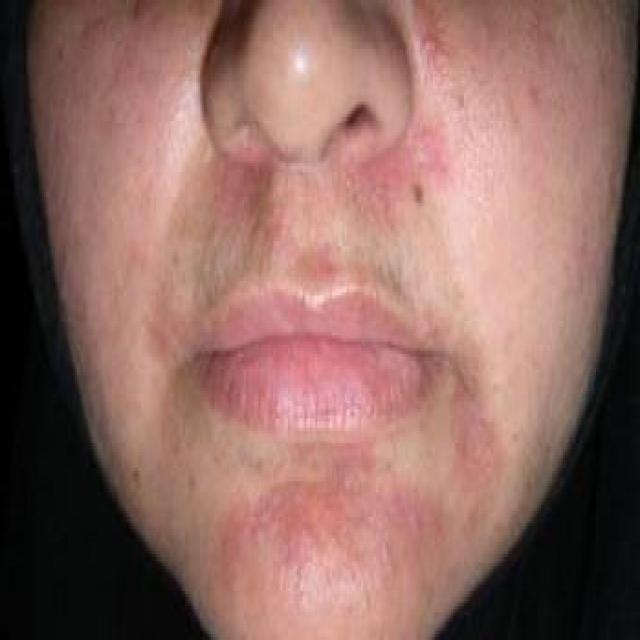Pimples: (410, 182, 426, 206), (129, 0, 149, 18)
